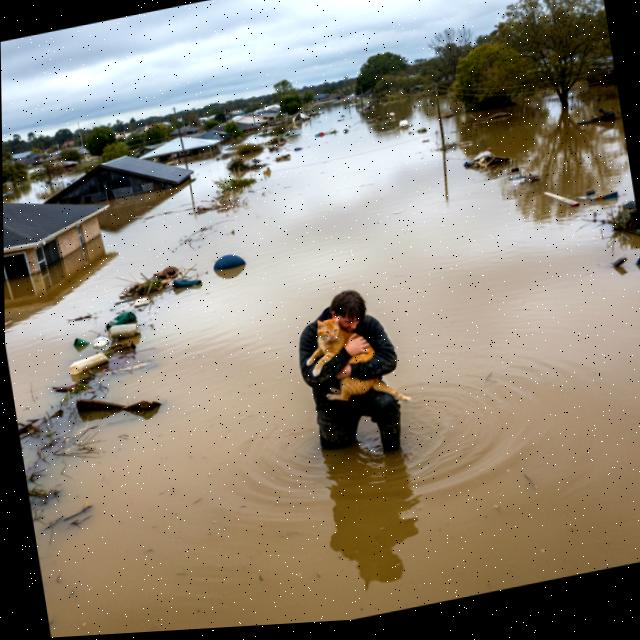cat: (298, 295, 419, 430)
civilian: (288, 266, 412, 480)
